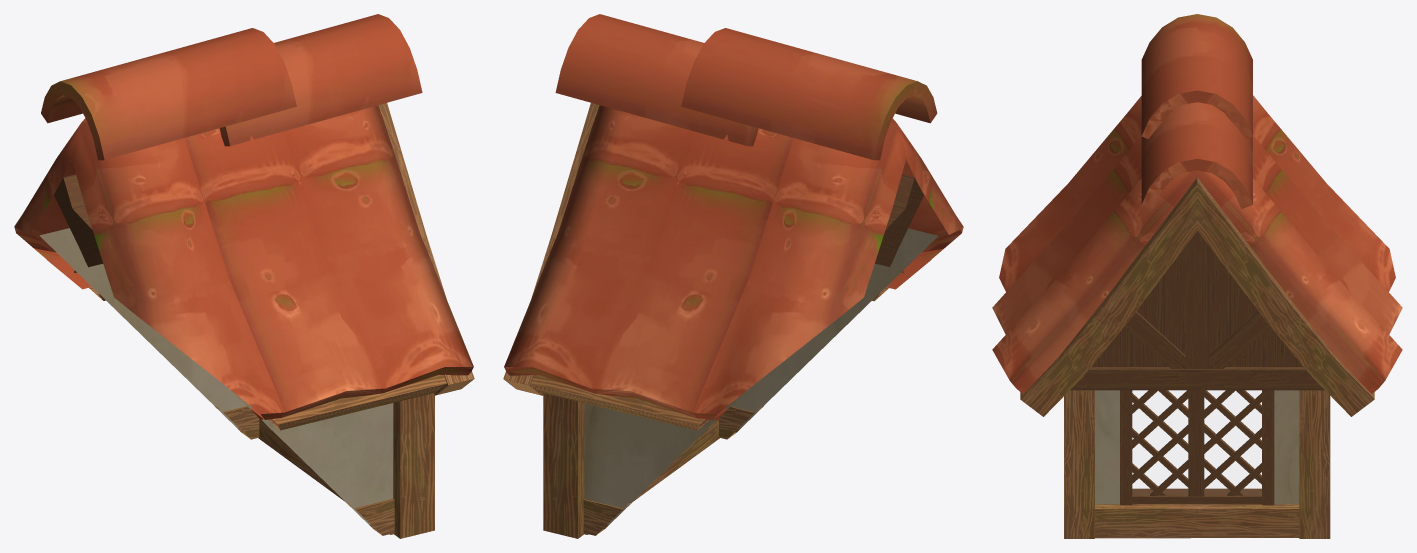
Rendered from Roof_Dormer_RoundTile.glb.
3 views of the same model, side by side, from view 1: azimuth 30°, elevation 25°; view 2: azimuth 150°, elevation 25°; view 3: azimuth 270°, elevation 25° (orthographic). The views are drawn at different scales.
Visible parts, largest first — view 1: Roof_Dormer_RoundTile; view 2: Roof_Dormer_RoundTile; view 3: Roof_Dormer_RoundTile.
Boxes of the visible parts, <box> form: Roof_Dormer_RoundTile: <box>14,14,474,538</box>; Roof_Dormer_RoundTile: <box>503,14,963,538</box>; Roof_Dormer_RoundTile: <box>992,14,1402,538</box>.
Bounding box in the file's own units: 1.97 × 2.67 × 2.44.
Materials: 4 (3 with a texture image).
